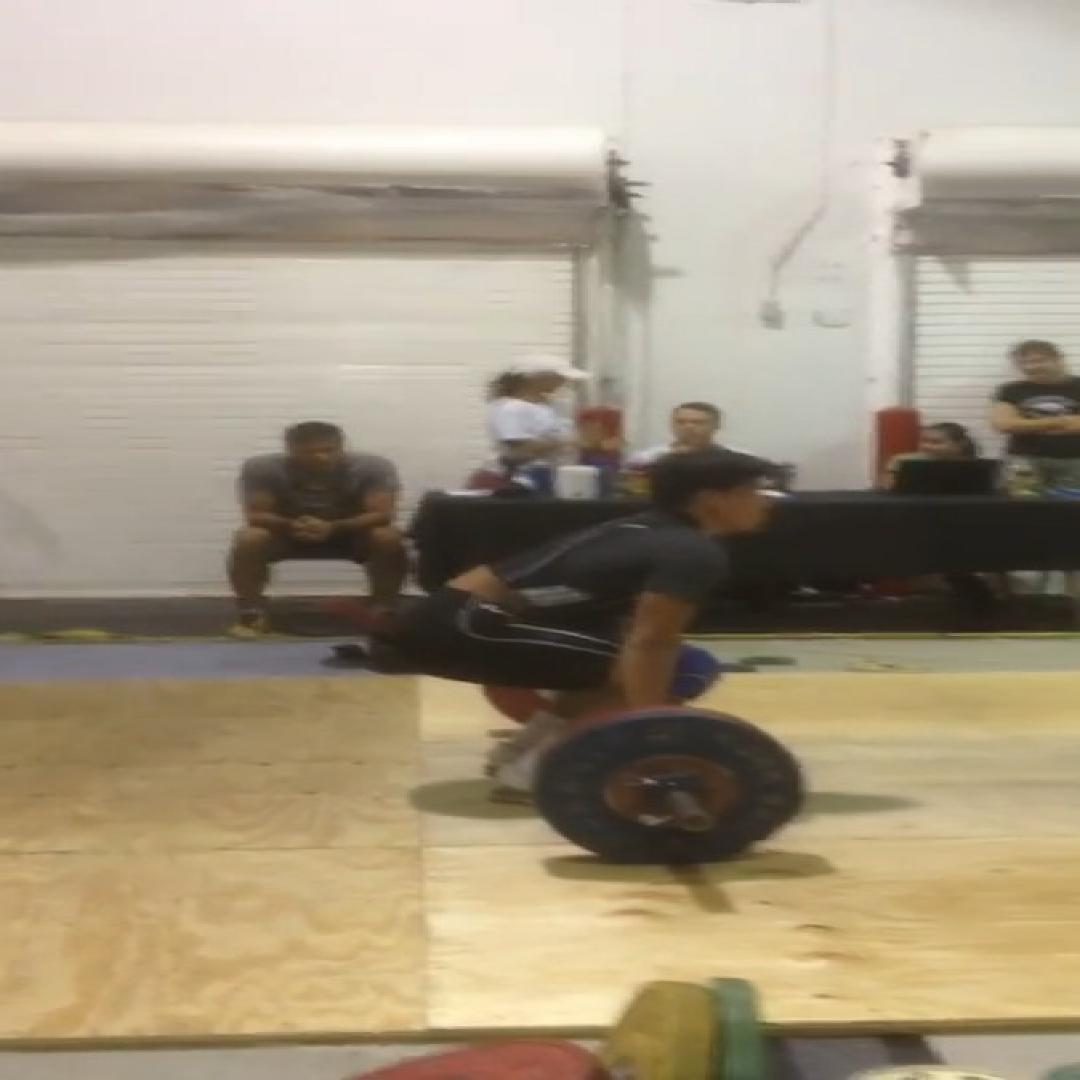Bar: (683, 814, 716, 834)
Barbell: (537, 717, 801, 861)
